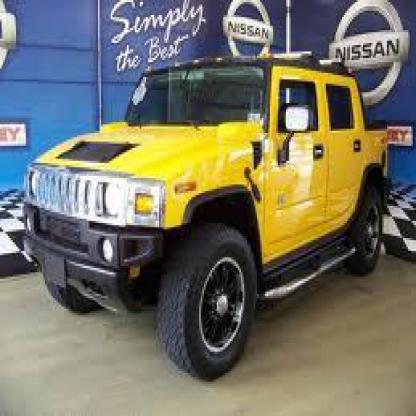Vehicle: (20, 50, 394, 392)
